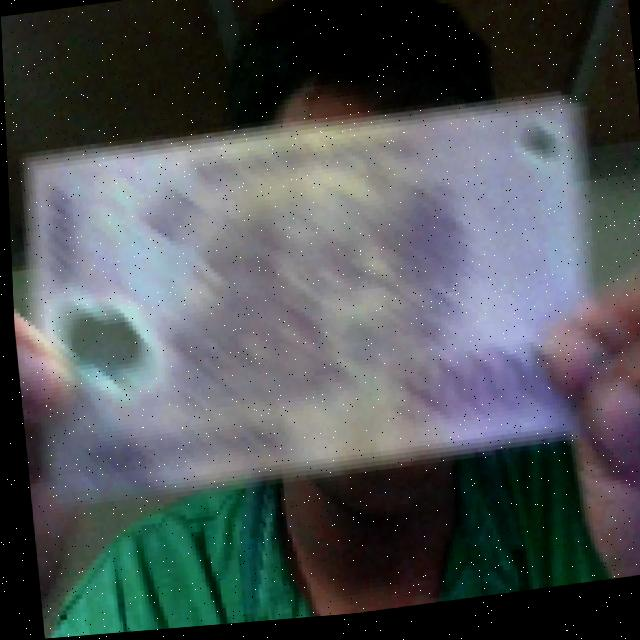50 000 VND: (5, 77, 616, 521)
